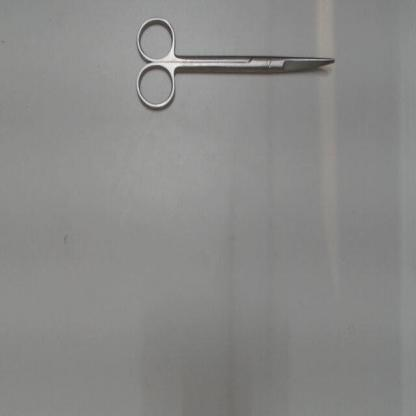Curved Mayo Scissors: (131, 14, 340, 117)
